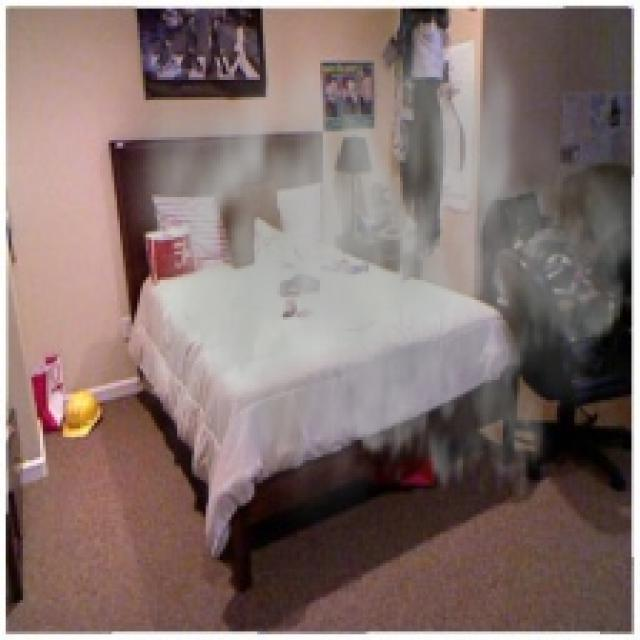Smoke: (97, 11, 632, 548)
